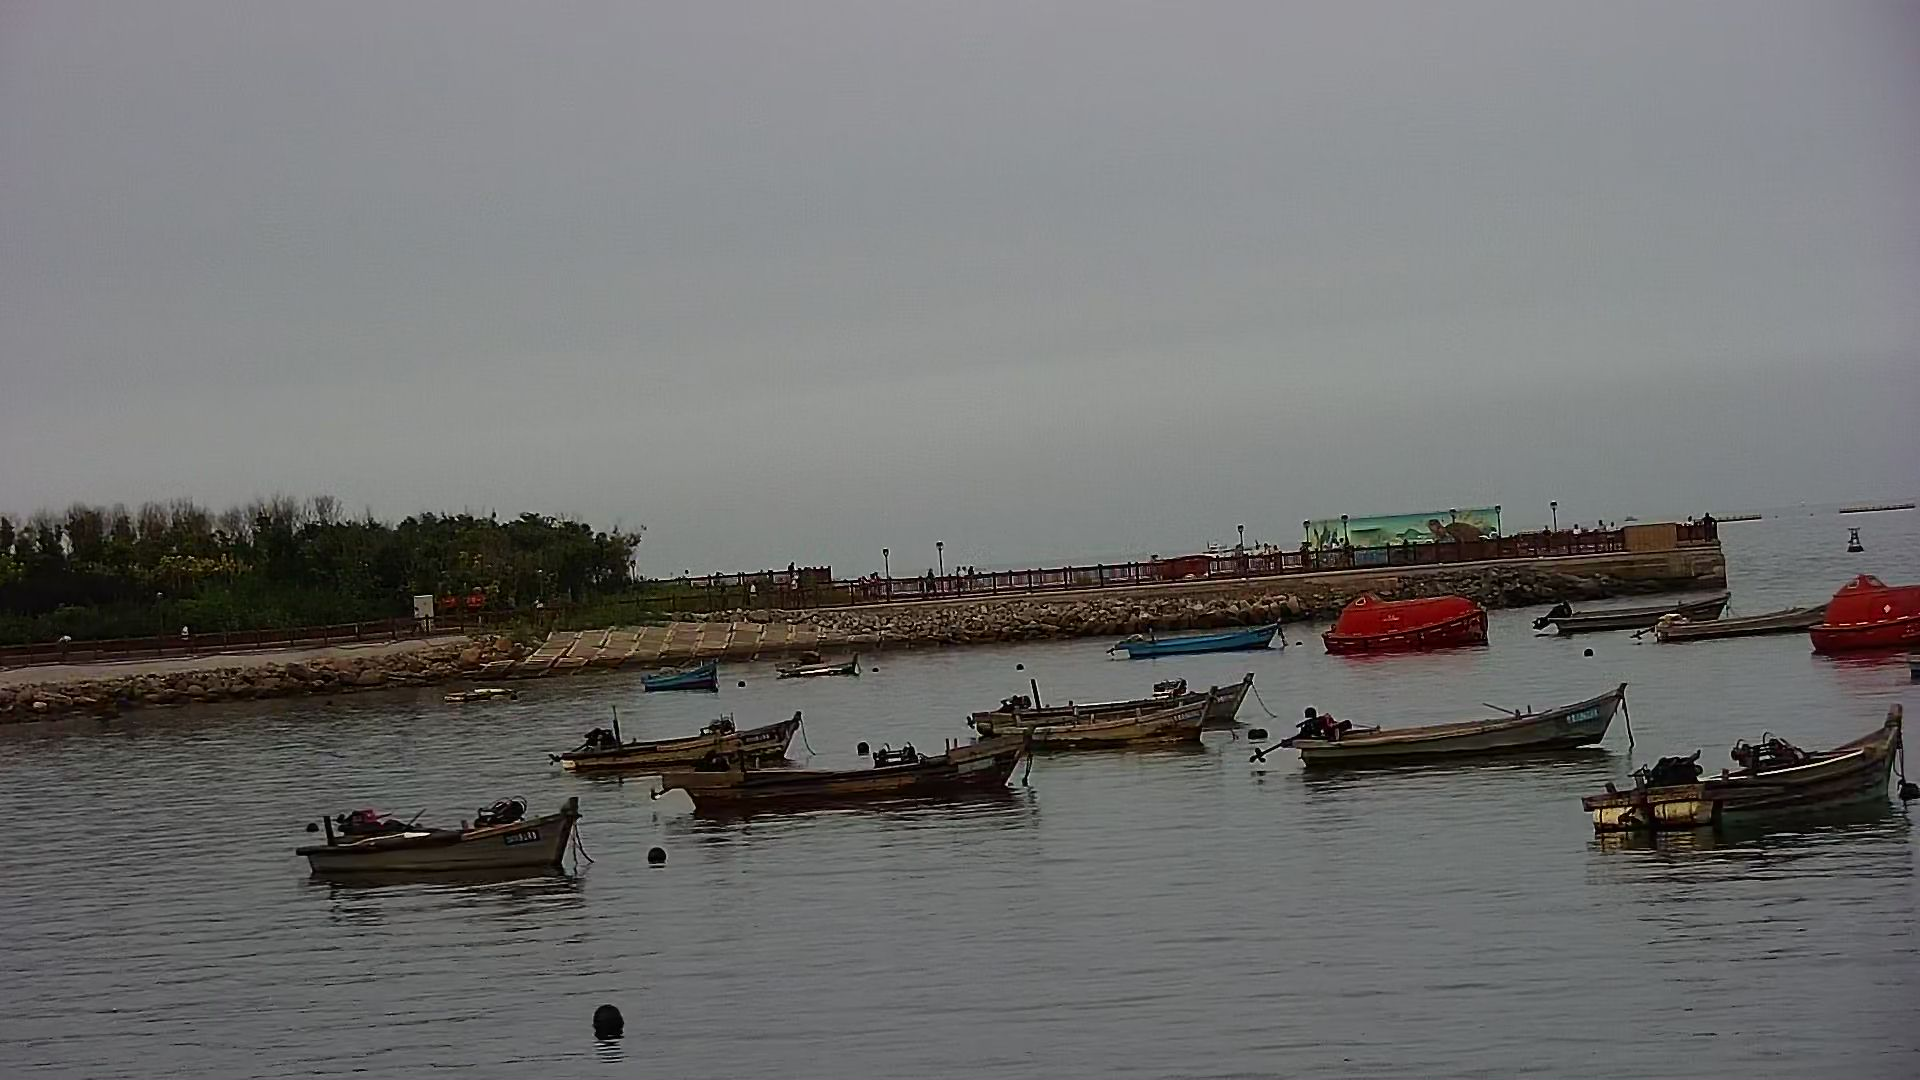ball: (589, 1002, 665, 1052), (649, 848, 669, 866)
boat: (1592, 695, 1913, 857), (1290, 676, 1636, 778), (278, 790, 593, 899), (676, 738, 1033, 831), (562, 711, 800, 793), (963, 683, 1211, 752), (1646, 582, 1849, 657), (1319, 585, 1501, 666), (1116, 608, 1296, 679), (1540, 582, 1735, 646), (650, 659, 717, 705), (778, 657, 862, 688)
